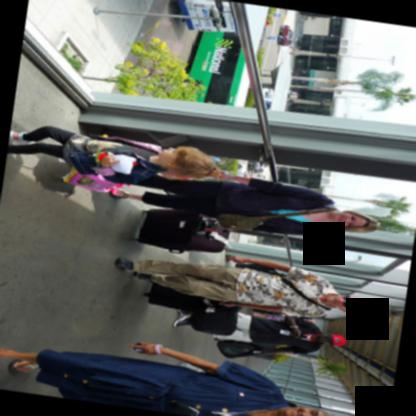backpack: (234, 262, 281, 274)
handbag: (216, 207, 338, 231), (187, 306, 242, 335), (215, 340, 260, 357)
suitcase: (138, 209, 263, 257), (142, 280, 224, 314), (187, 306, 243, 336), (60, 168, 119, 192), (253, 308, 281, 316)
